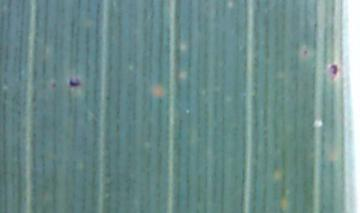tarspot: (66, 76, 82, 89), (327, 63, 339, 75), (302, 48, 309, 57), (50, 80, 57, 89)
